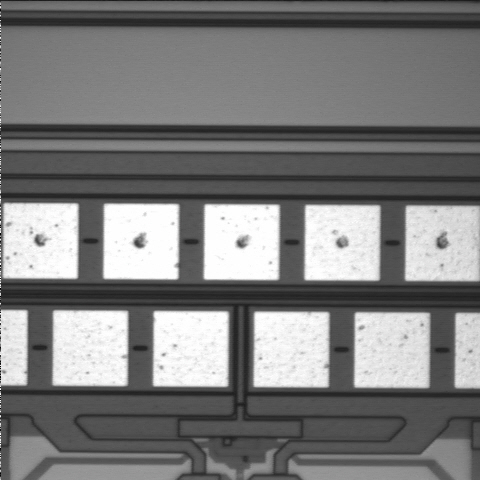pad: (103, 204, 179, 280), (204, 204, 280, 280), (304, 205, 380, 281), (153, 311, 229, 387), (354, 312, 430, 388), (3, 203, 78, 279), (53, 310, 128, 386), (253, 312, 329, 387)
